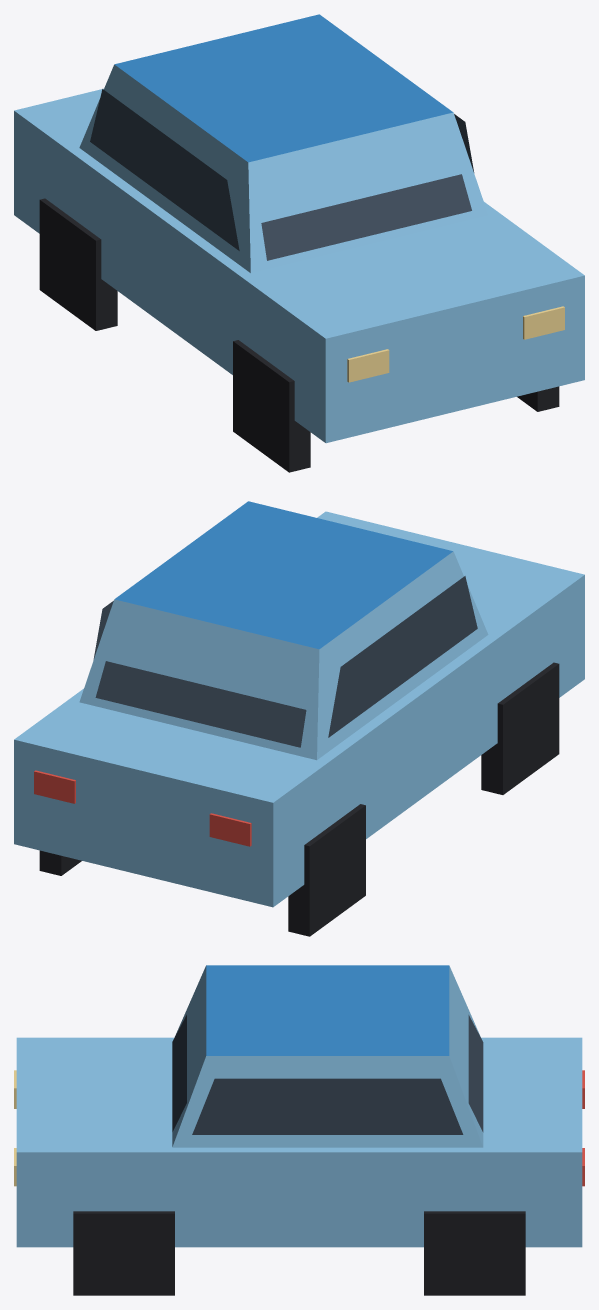
Rendered from P_ParkedCarBlue.fbx.
3 views of the same model, one above another, from view 1: azimuth 30°, elevation 25°; view 2: azimuth 150°, elevation 25°; view 3: azimuth 270°, elevation 25° (orthographic). The views are drawn at different scales.
Visible parts, largest first — view 1: P_ParkedCarBlue; view 2: P_ParkedCarBlue; view 3: P_ParkedCarBlue.
Part boxes in pixels (bbox=[...]): P_ParkedCarBlue: bbox=[14, 14, 584, 472]; P_ParkedCarBlue: bbox=[14, 501, 584, 936]; P_ParkedCarBlue: bbox=[14, 965, 584, 1295].
Bounding box in the file's own units: 1 × 0.88 × 2.02.
